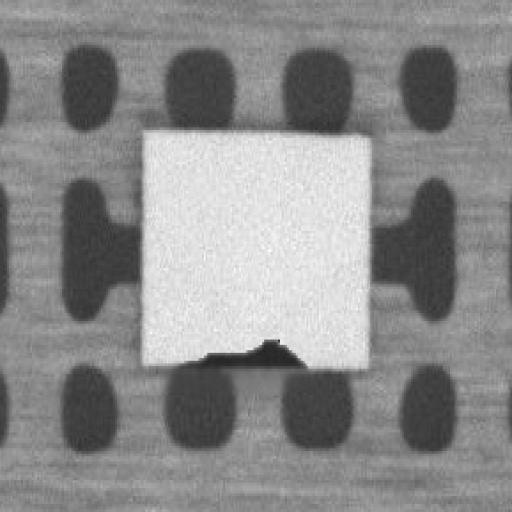DIE_BROKEN: (184, 332, 305, 366)
